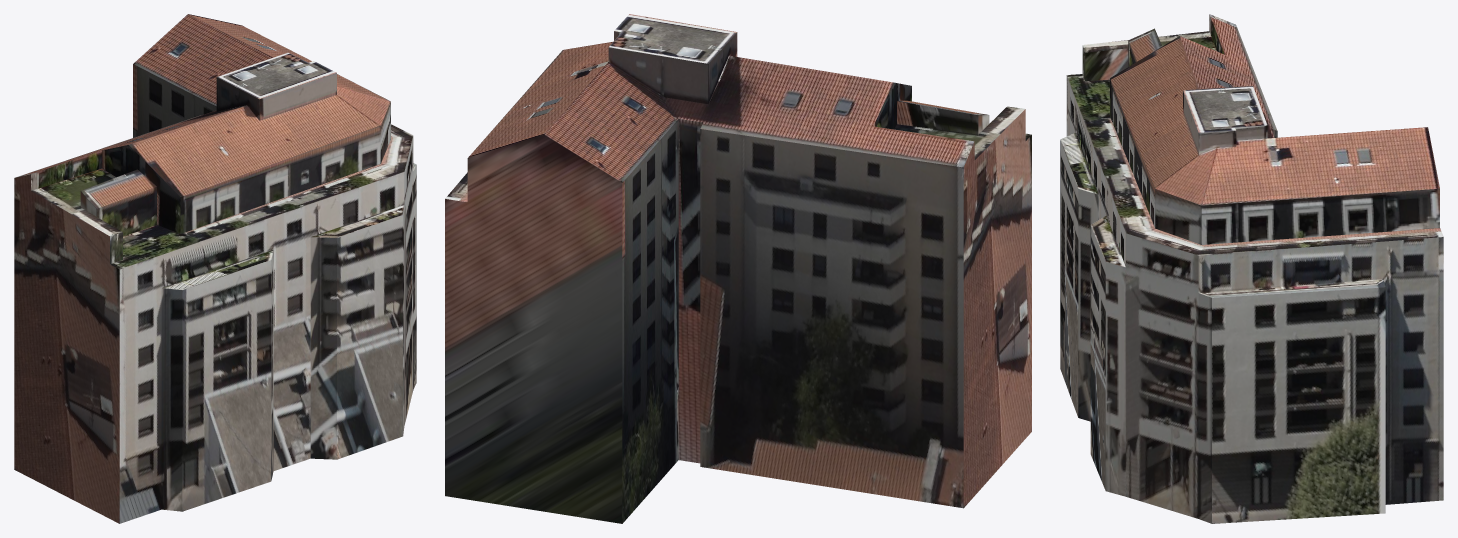
3 views of the same model, side by side, from view 1: azimuth 30°, elevation 25°; view 2: azimuth 150°, elevation 25°; view 3: azimuth 270°, elevation 25° (orthographic). The views are drawn at different scales.
Visible parts, largest first — view 1: Z_UP; view 2: Z_UP; view 3: Z_UP.
Boxes of the visible parts, box(x1,y1,x2,y2) form: Z_UP: box(14, 14, 416, 523); Z_UP: box(445, 14, 1031, 523); Z_UP: box(1060, 14, 1443, 523).
Size of the model in its own units: 31.88 by 26.2 by 26.2.
2 materials, 1 textured.
